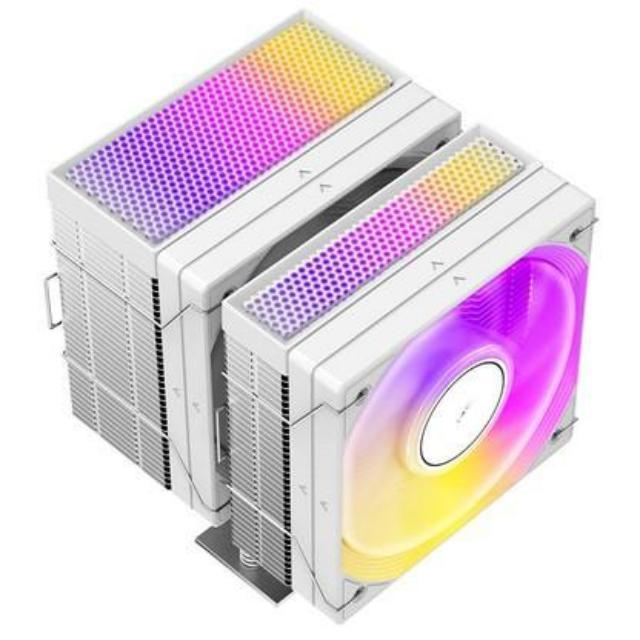CPU_Fan: (36, 6, 601, 640)
